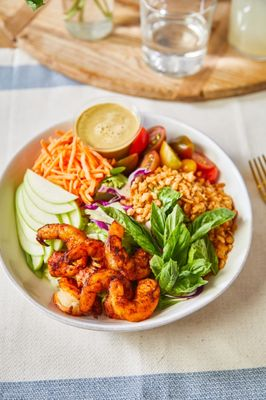burger: (249, 154, 266, 202)
pizza: (139, 0, 218, 78)
sushi: (2, 107, 259, 335)
